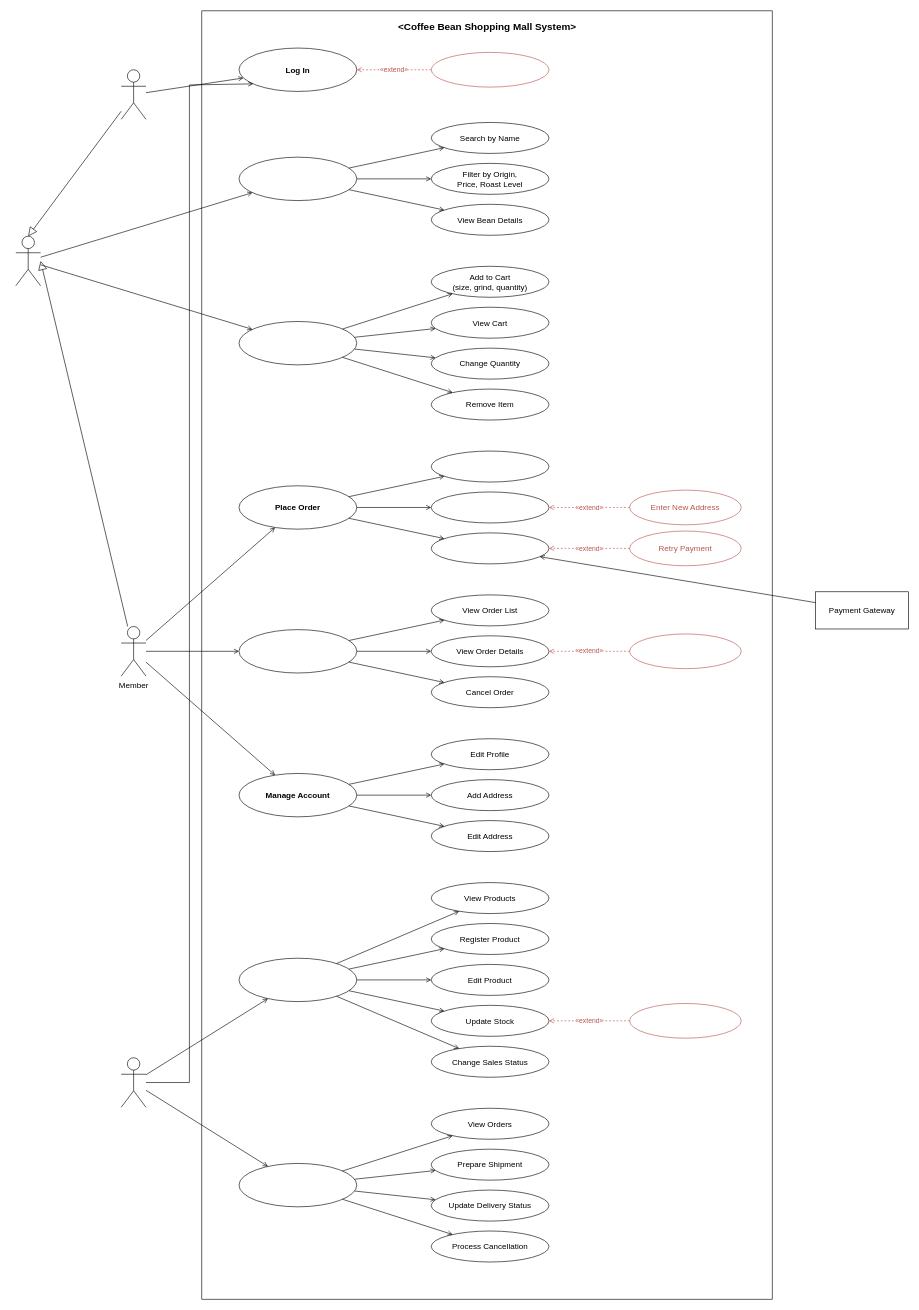
This 919x1310 diagram has some shape labels left out. Each missing label, with the centre of its shape:
"Administrator" goes at point 133,1082.
"Browse Coffee Beans" goes at point 297,179.
"Customer" goes at point 28,261.
"Guest" goes at point 133,94.
"Make Payment" goes at point 490,548.
"Manage Cart" goes at point 297,343.
"Manage My Orders" goes at point 297,651.
"Manage Orders" goes at point 297,1185.
"Manage Products" goes at point 297,980.
"Mark as Sold Out" goes at point 685,1020.
"Review Order" goes at point 490,466.
"Select Shipping Address" goes at point 490,507.
"Sign Up" goes at point 490,69.
"Track Delivery" goes at point 685,651.
